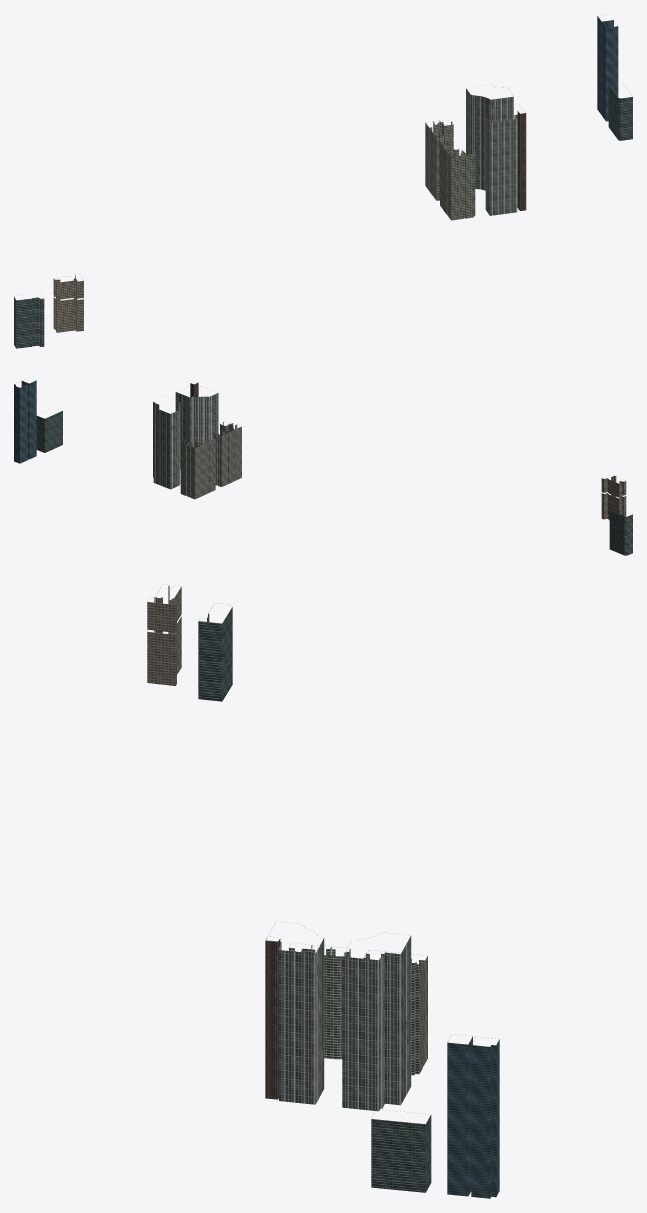
The picture shows the model from 3 angles, top to bottom: view 1: azimuth 30°, elevation 25°; view 2: azimuth 150°, elevation 25°; view 3: azimuth 270°, elevation 25°; orthographic projection. The views are drawn at different scales.
Visible parts, largest first — view 1: LimestonePiers, RecessedBalconies, HorizontalLouvers, BlueSpandrels, PairedWindows, ClayFins; view 2: LimestonePiers, RecessedBalconies, HorizontalLouvers, BlueSpandrels, PairedWindows; view 3: LimestonePiers, BlueSpandrels, HorizontalLouvers, RecessedBalconies, PairedWindows, ClayFins.
Part boxes in pixels (<box>): LimestonePiers: <box>466,88,517,215</box>; RecessedBalconies: <box>425,121,475,220</box>; HorizontalLouvers: <box>14,85,632,348</box>; BlueSpandrels: <box>597,16,618,121</box>; PairedWindows: <box>53,274,83,332</box>; ClayFins: <box>517,111,526,210</box>; LimestonePiers: <box>153,392,218,489</box>; RecessedBalconies: <box>180,422,241,499</box>; HorizontalLouvers: <box>36,410,632,555</box>; BlueSpandrels: <box>14,380,36,463</box>; PairedWindows: <box>601,476,626,520</box>; LimestonePiers: <box>266,936,411,1111</box>; BlueSpandrels: <box>447,1037,499,1198</box>; HorizontalLouvers: <box>198,607,431,1192</box>; RecessedBalconies: <box>289,945,427,1075</box>; PairedWindows: <box>147,585,181,685</box>; ClayFins: <box>265,938,280,1099</box>.
Bounding box in the file's own units: 1578 × 237 × 438.
Materials: 7 (7 with a texture image).
